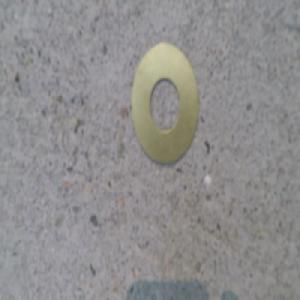Washer: (132, 45, 200, 172)
